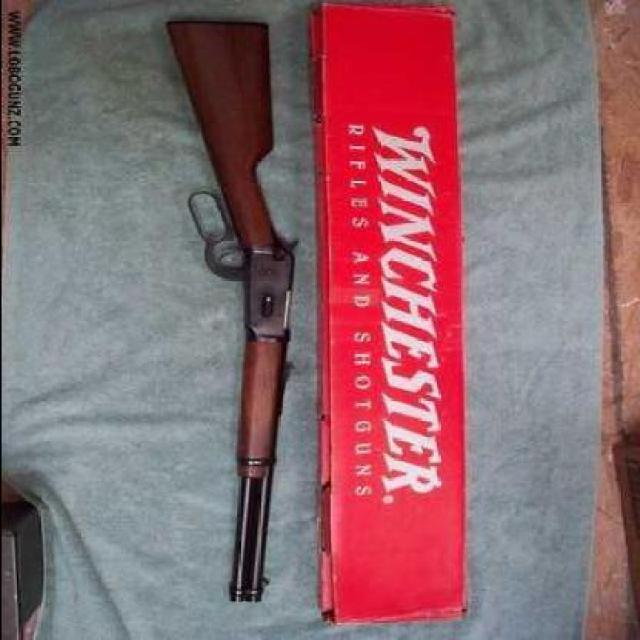Rifle: (164, 18, 297, 602)
